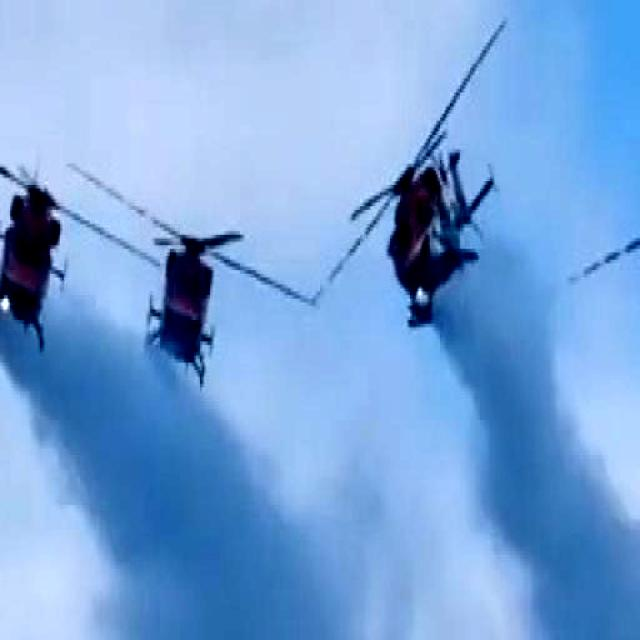drone: (334, 18, 519, 349), (102, 154, 302, 395), (0, 91, 126, 358), (572, 135, 640, 345)
